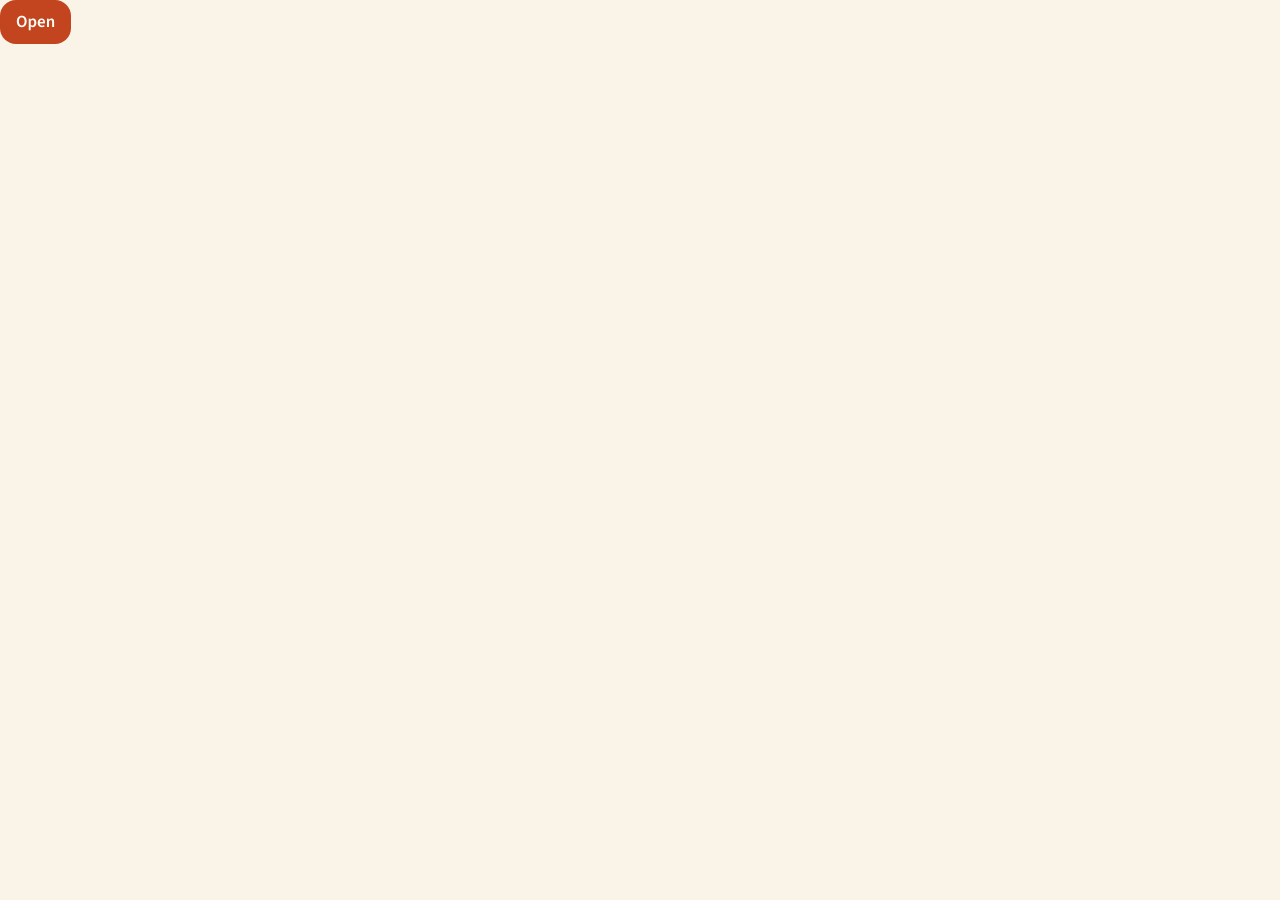
Test: Dialog › closes when Escape is pressed
This screenshot has width=1280, height=900.
Click the button "Open" at coordinates (36, 22), box 0,0 -> 71,44
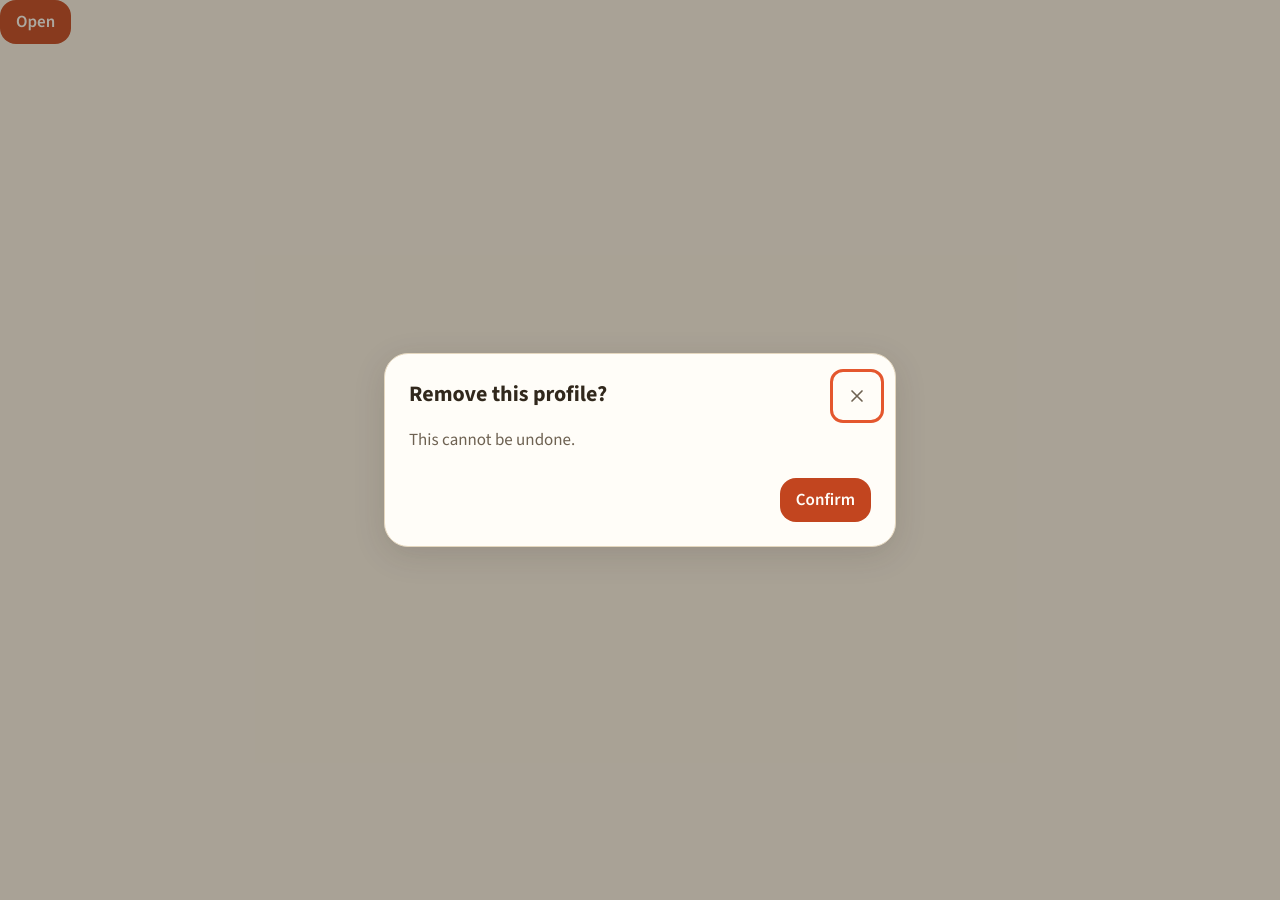
Press Escape
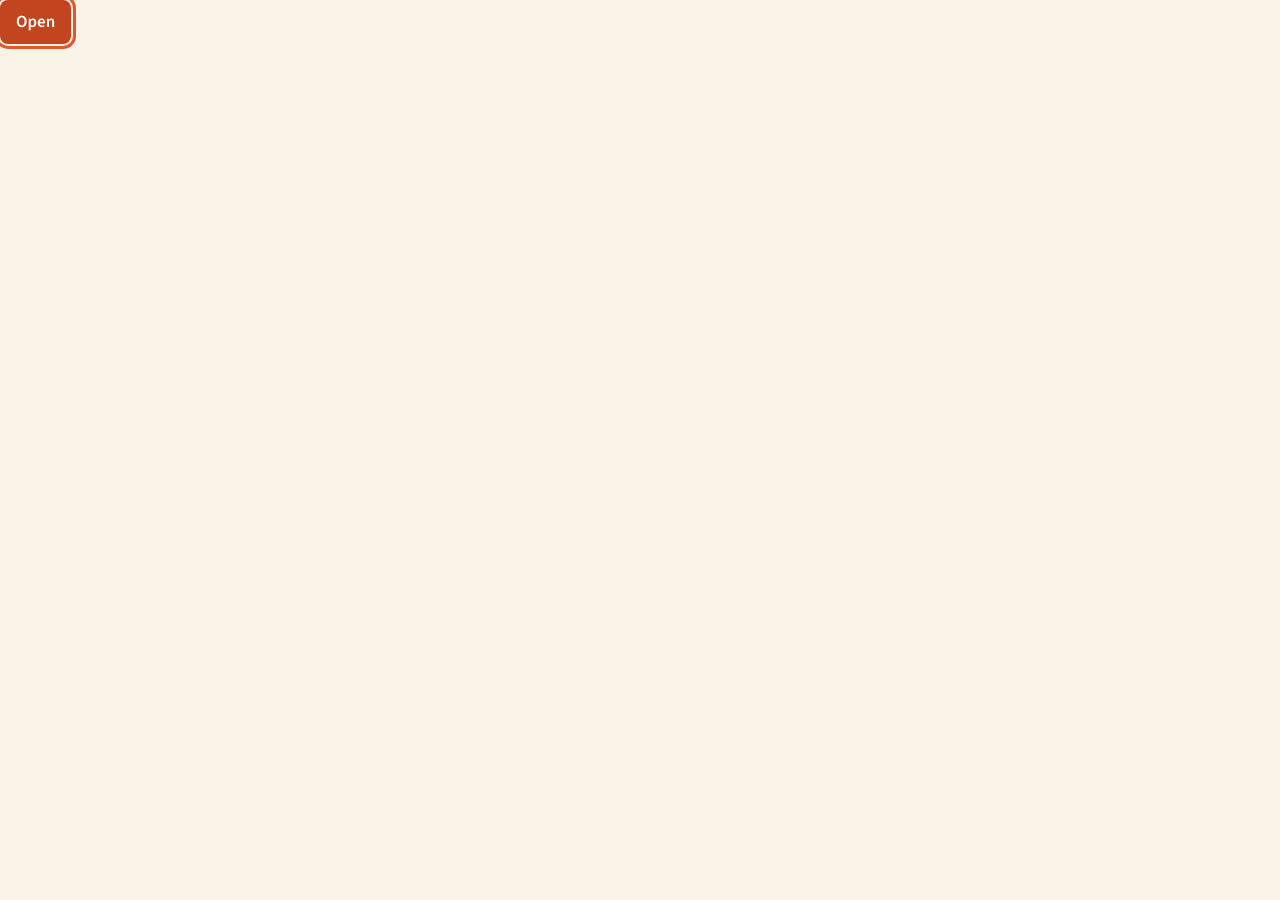
Now the dialog is gone
